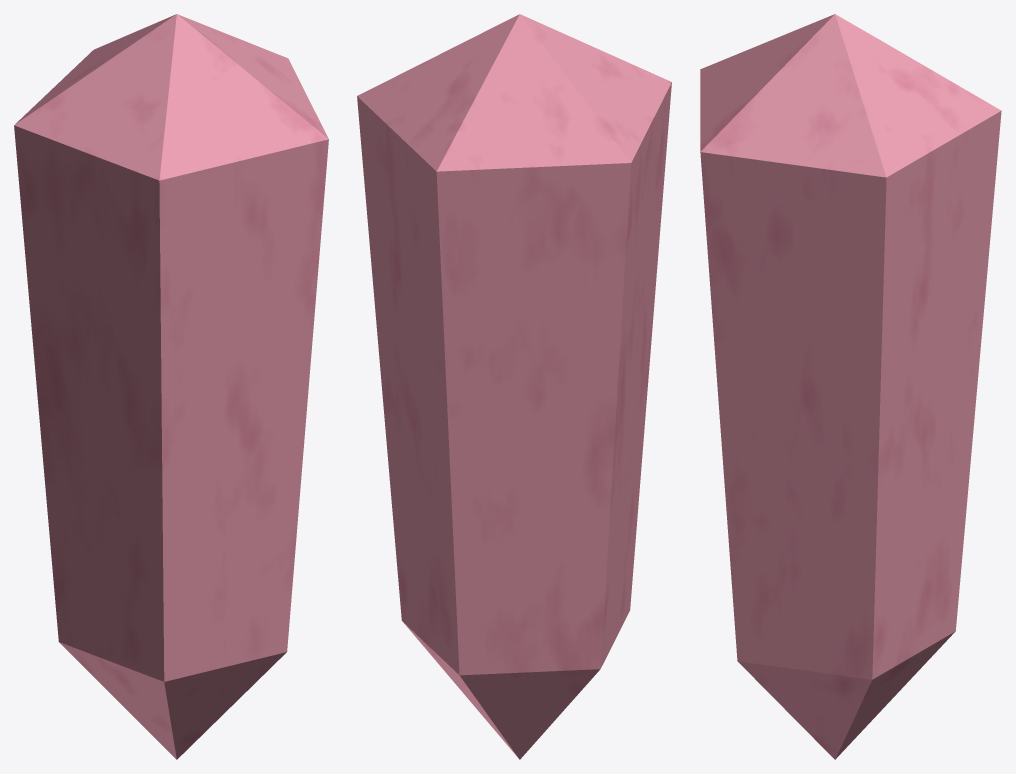
The model's file is pink_crystal.obj.
3 renders of one model, left to right at view 1: azimuth 30°, elevation 25°; view 2: azimuth 150°, elevation 25°; view 3: azimuth 270°, elevation 25°, orthographic.
Visible parts, largest first — view 1: Cylinder.004; view 2: Cylinder.004; view 3: Cylinder.004.
Part boxes in pixels (box(x1,y1,x2,y2)): Cylinder.004: box(14, 14, 328, 759); Cylinder.004: box(357, 14, 671, 759); Cylinder.004: box(700, 14, 1001, 759).
Size of the model in its own units: 1.9 by 4.94 by 1.81.
